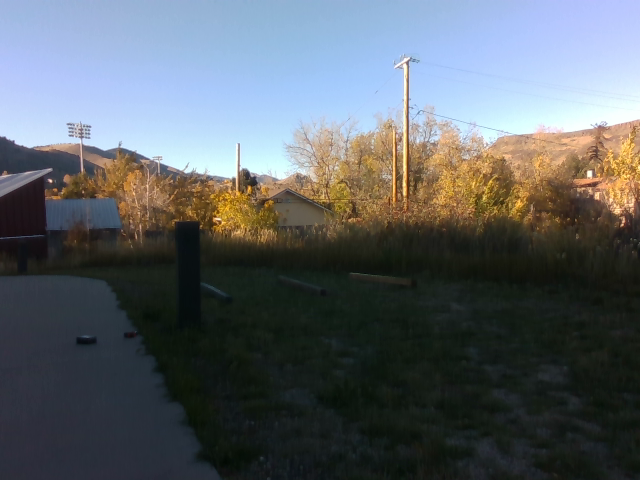Dunnage: (190, 266, 426, 312)
